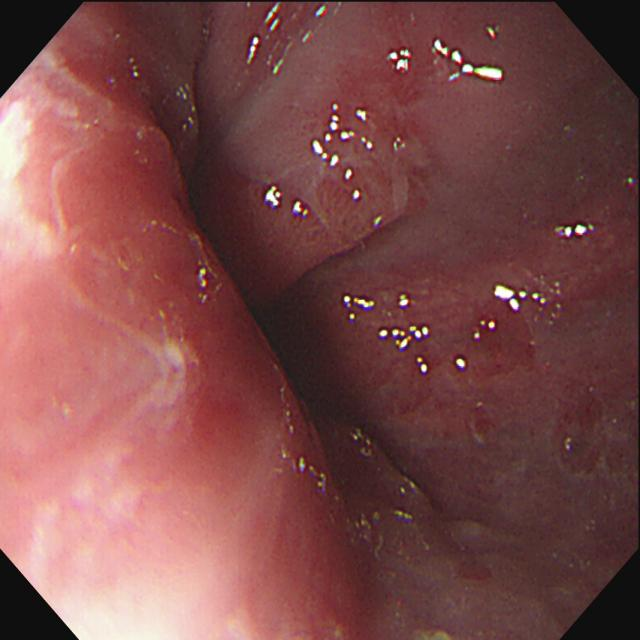E: (188, 142, 357, 476)
U: (312, 101, 375, 168), (432, 40, 505, 83), (495, 286, 547, 314), (379, 327, 431, 352), (343, 296, 376, 321), (555, 223, 596, 239), (388, 51, 412, 73), (264, 185, 283, 209), (266, 3, 281, 33), (248, 38, 260, 67), (293, 201, 310, 218), (417, 357, 430, 375), (399, 293, 411, 310), (456, 358, 468, 372), (343, 169, 354, 180), (488, 320, 498, 332), (353, 190, 363, 201)
